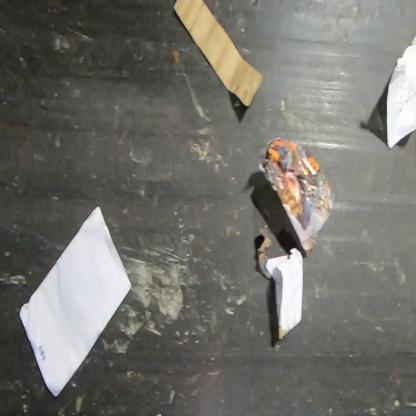cardboard: (172, 0, 265, 108)
